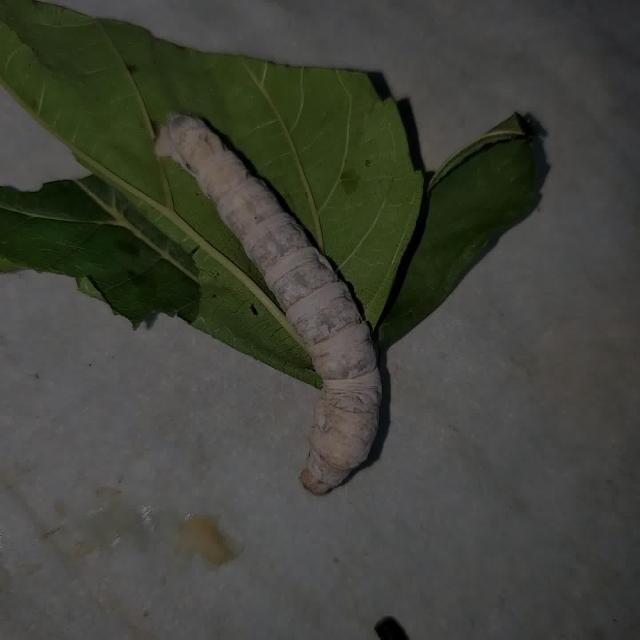Grasserie: (146, 99, 410, 500)
